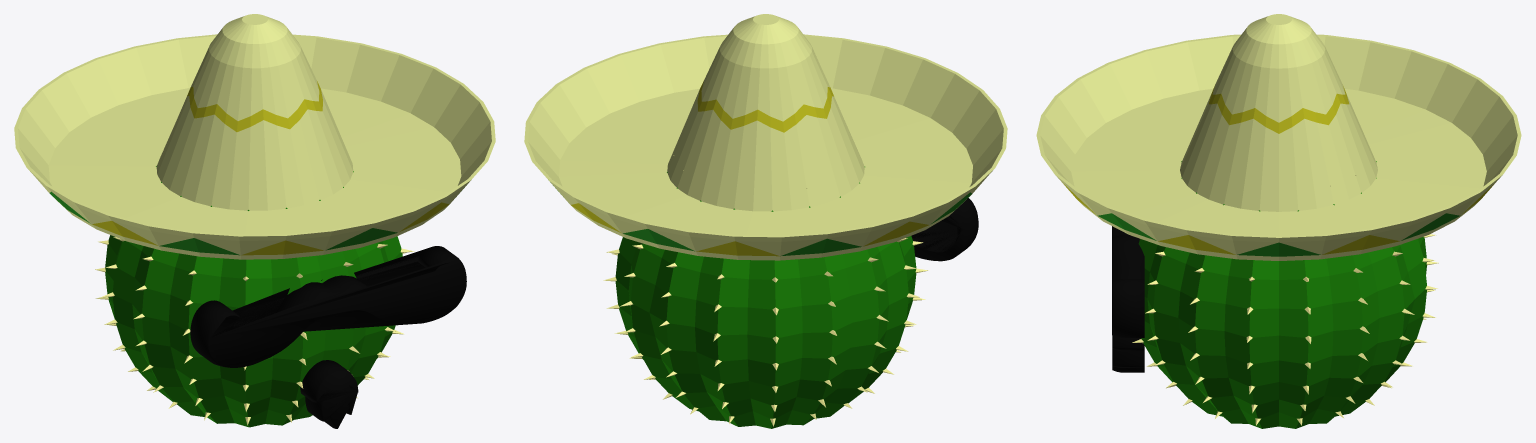
File: cactus bandit 3.fbx
3 renders of one model, left to right at view 1: azimuth 30°, elevation 25°; view 2: azimuth 150°, elevation 25°; view 3: azimuth 270°, elevation 25°, orthographic.
Parts seen in each view (by area): view 1: cactus bandit 3; view 2: cactus bandit 3; view 3: cactus bandit 3.
Boxes of the visible parts, x1,y1,x2,y2 form: cactus bandit 3: [14, 14, 495, 428]; cactus bandit 3: [524, 14, 1007, 428]; cactus bandit 3: [1036, 14, 1521, 428].
Bounding box in the file's own units: 556 × 473 × 556.
